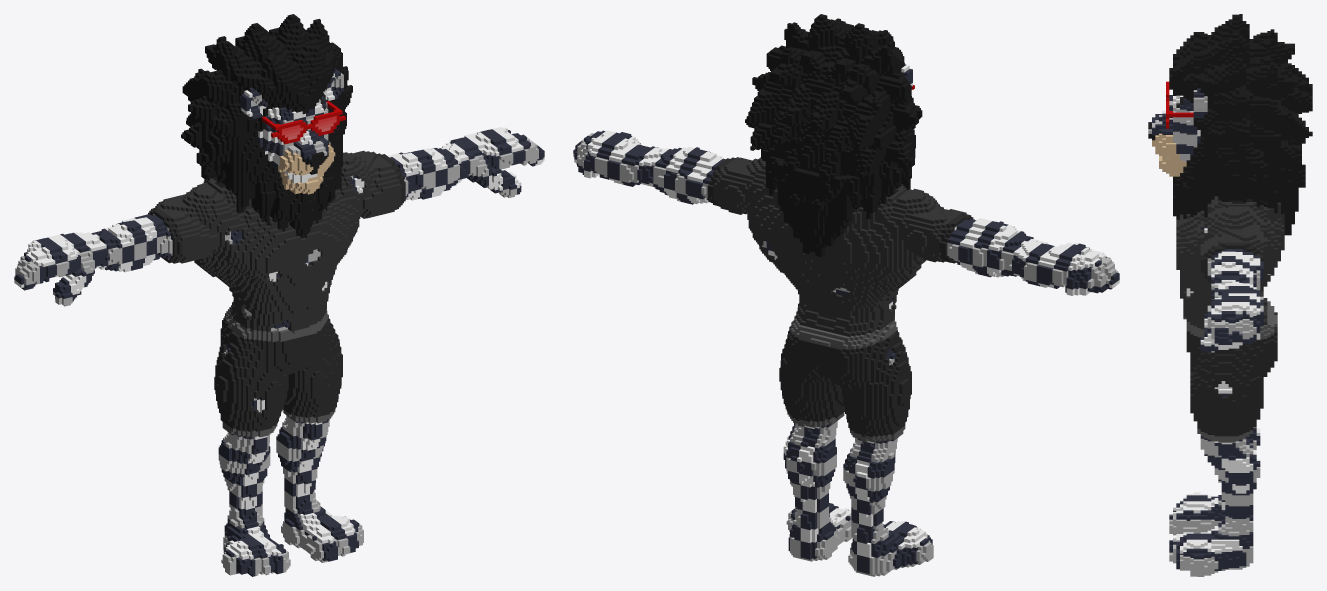
The model's file is 893-CMD2A1mn.glb.
3 renders of one model, left to right at view 1: azimuth 30°, elevation 25°; view 2: azimuth 150°, elevation 25°; view 3: azimuth 270°, elevation 25°, orthographic. The views are drawn at different scales.
Parts seen in each view (by area): view 1: grin; view 2: grin; view 3: grin.
Part boxes in pixels (bbox=[...]): grin: bbox=[14, 14, 544, 576]; grin: bbox=[573, 14, 1119, 576]; grin: bbox=[1148, 14, 1312, 576].
Bounding box in the file's own units: 17.2 × 16.5 × 4.7.
5 materials, 5 textured.
